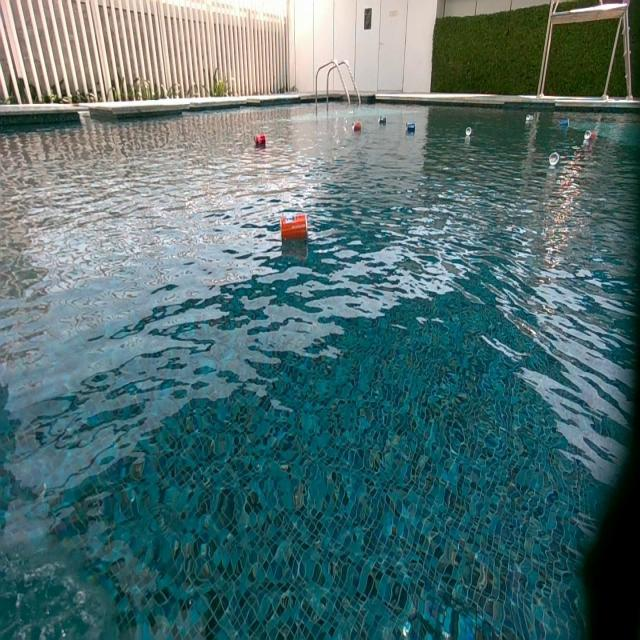Cans: (280, 212, 306, 242), (253, 134, 265, 148), (586, 131, 598, 144), (550, 151, 561, 165), (406, 122, 418, 134), (352, 121, 361, 131), (379, 114, 388, 124), (559, 118, 569, 127), (464, 128, 472, 138), (526, 114, 534, 122)
